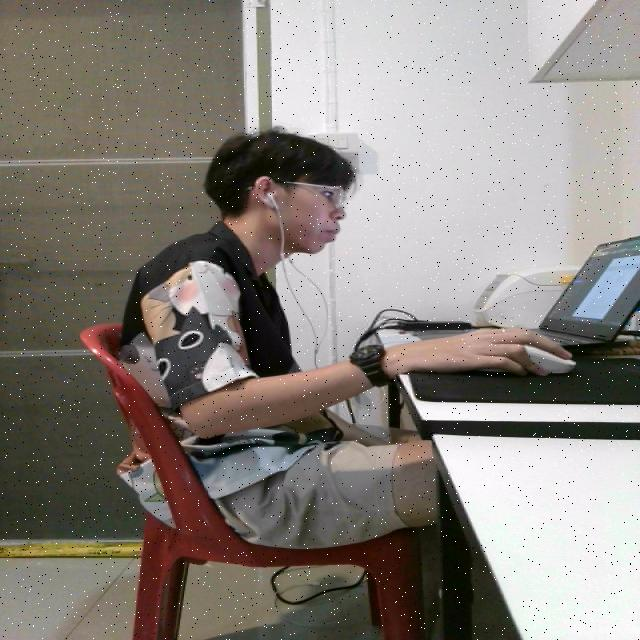Bad: (96, 113, 440, 564)
